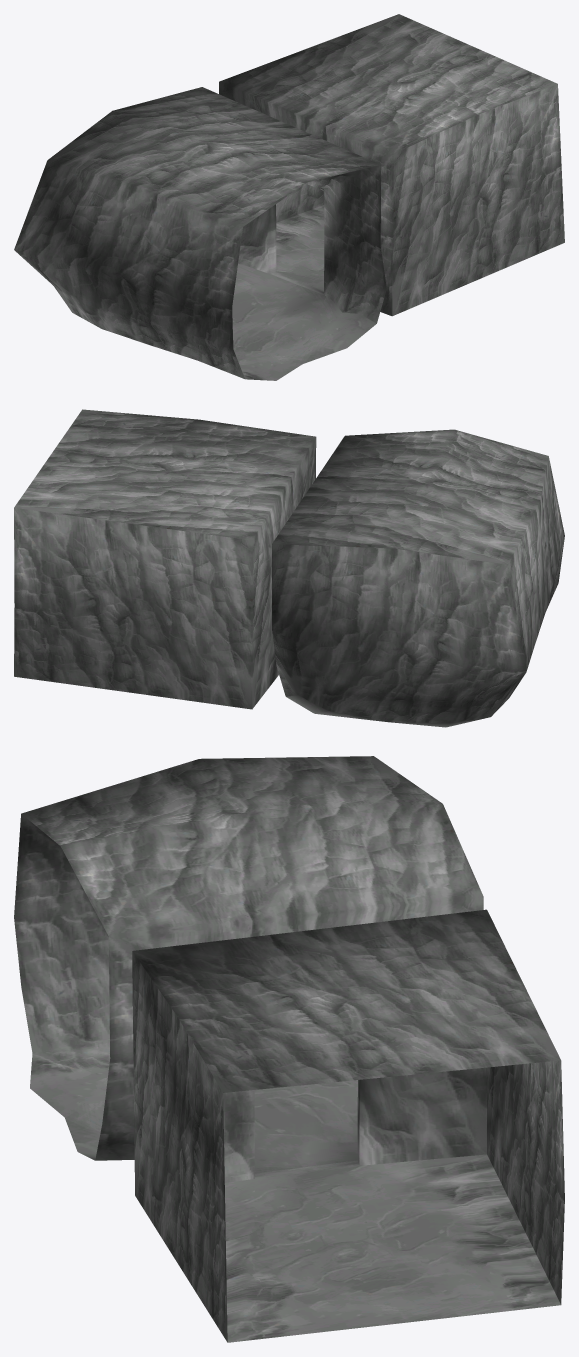
File: SWORDLIGHT20_PS-AREA04_10.fbx
3 views of the same model, one above another, from view 1: azimuth 30°, elevation 25°; view 2: azimuth 150°, elevation 25°; view 3: azimuth 270°, elevation 25° (orthographic). The views are drawn at different scales.
Visible parts, largest first — view 1: SWORDLIGHT20_PS-AREA04_10; view 2: SWORDLIGHT20_PS-AREA04_10; view 3: SWORDLIGHT20_PS-AREA04_10.
Boxes of the visible parts, x1,y1,x2,y2 form: SWORDLIGHT20_PS-AREA04_10: [14, 14, 564, 380]; SWORDLIGHT20_PS-AREA04_10: [14, 409, 564, 727]; SWORDLIGHT20_PS-AREA04_10: [14, 756, 564, 1342].
Bounding box in the file's own units: 117131 × 41950 × 75135.
4 materials, 4 textured.
